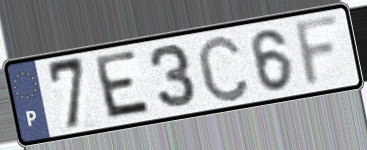3: (147, 43, 199, 111)
6: (247, 26, 296, 94)
7: (44, 55, 89, 135)
C: (194, 32, 253, 105)
E: (93, 48, 155, 123)
F: (292, 11, 343, 92)
